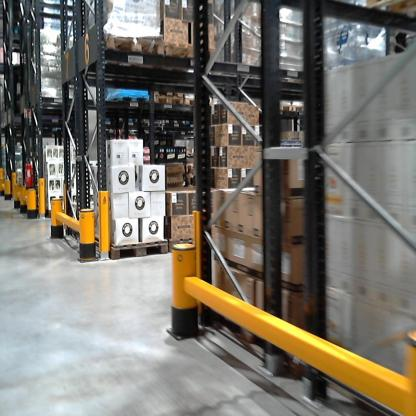pallet: (74, 233, 171, 259), (162, 41, 224, 66), (100, 36, 166, 58), (92, 89, 153, 107), (362, 3, 415, 22), (182, 91, 220, 112), (259, 98, 292, 116), (154, 94, 186, 109), (288, 101, 310, 116)
